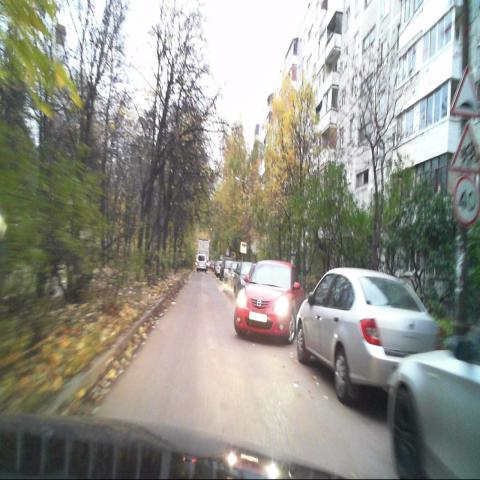1_17: (450, 64, 480, 117)
1_23: (450, 122, 480, 172)
3_24: (453, 174, 479, 227)
